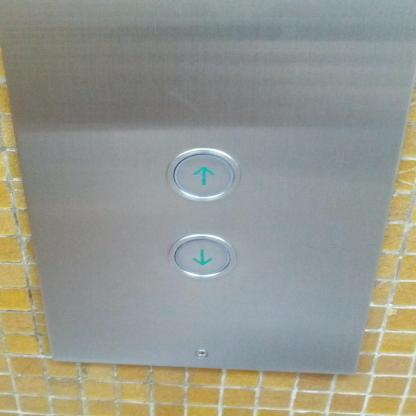down: (165, 232, 238, 282)
up: (164, 145, 242, 204)
